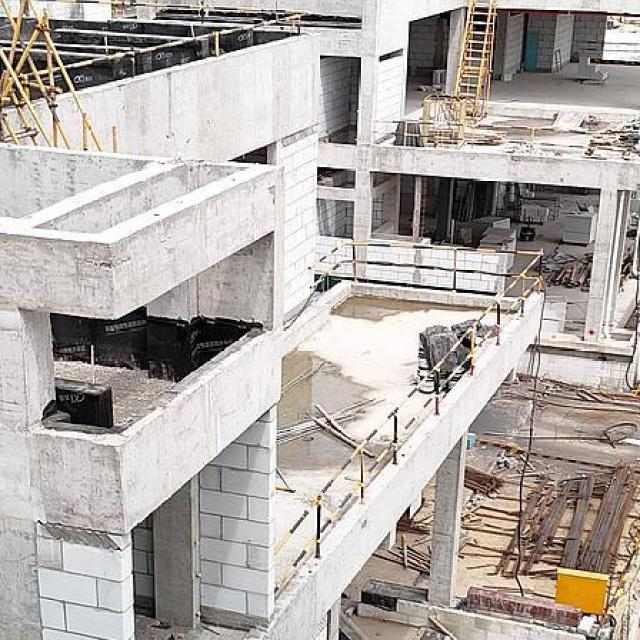Guardrail: (272, 240, 545, 596), (38, 0, 309, 76), (374, 119, 640, 151), (604, 42, 640, 52)
